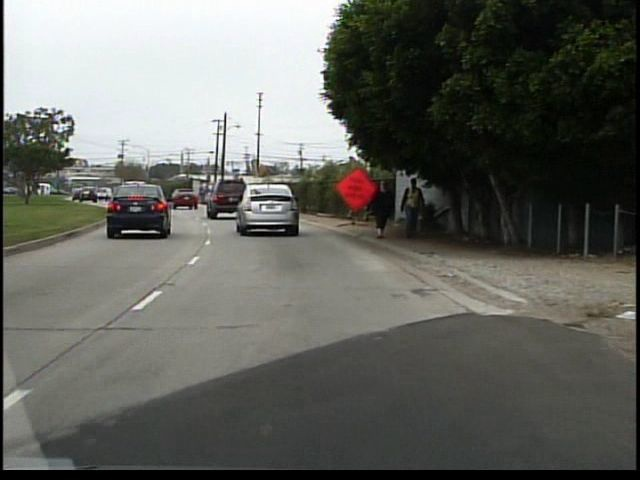person: (360, 173, 398, 245), (398, 176, 425, 242)
